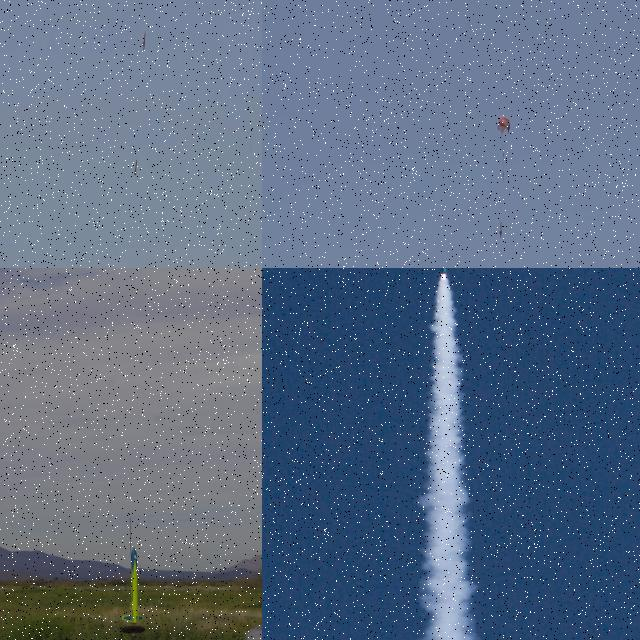Rocket: (122, 546, 145, 623), (437, 268, 448, 274), (134, 160, 137, 175)
